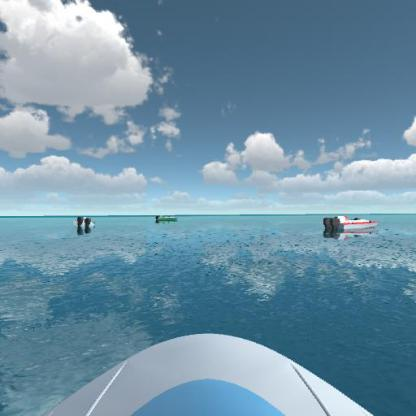usv0: (151, 208, 182, 227)
usv1: (73, 212, 100, 232)
usv3: (317, 210, 385, 238)
